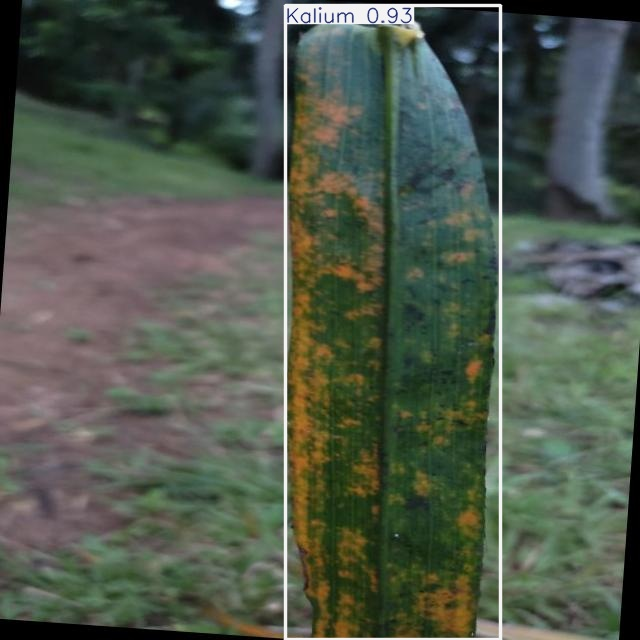Kalium: (286, 5, 501, 640)
